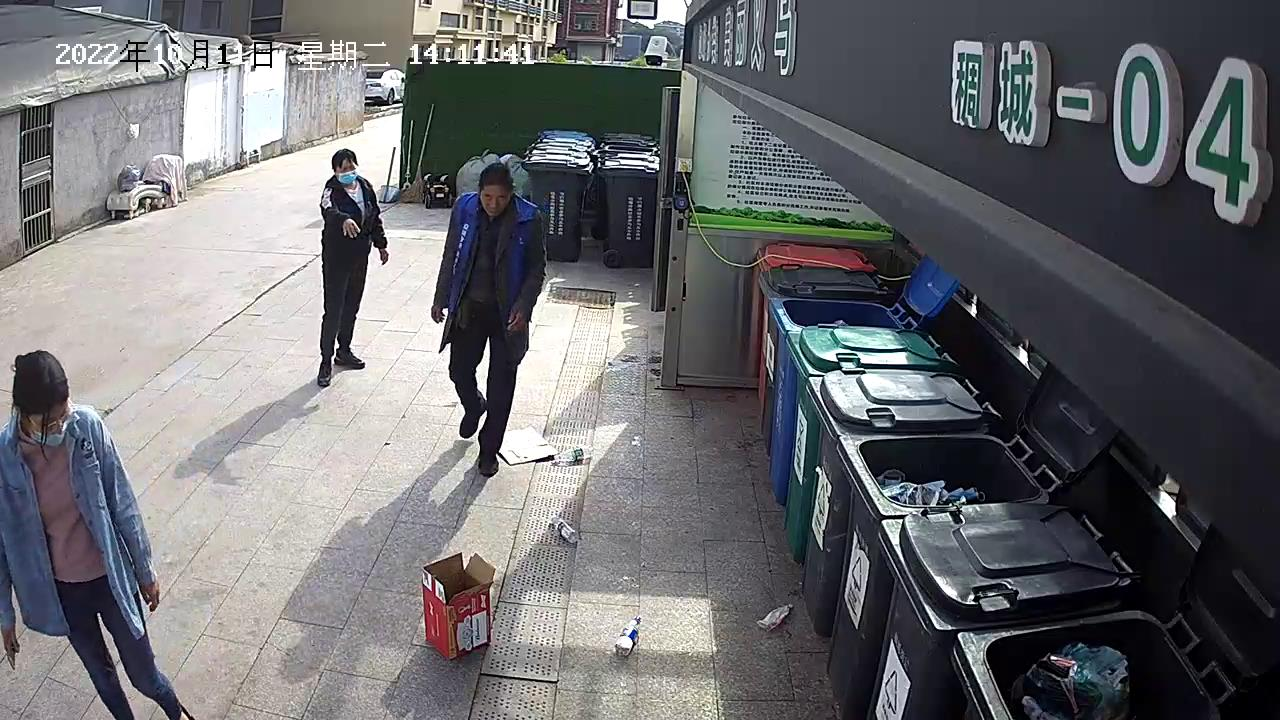person: (315, 145, 391, 391)
suliaozhipin: (613, 614, 645, 658), (755, 601, 796, 633), (548, 511, 580, 547), (550, 445, 597, 467)
worker: (1, 347, 195, 720), (428, 160, 547, 475)
zhizhipin: (419, 551, 498, 661), (493, 423, 558, 468)
